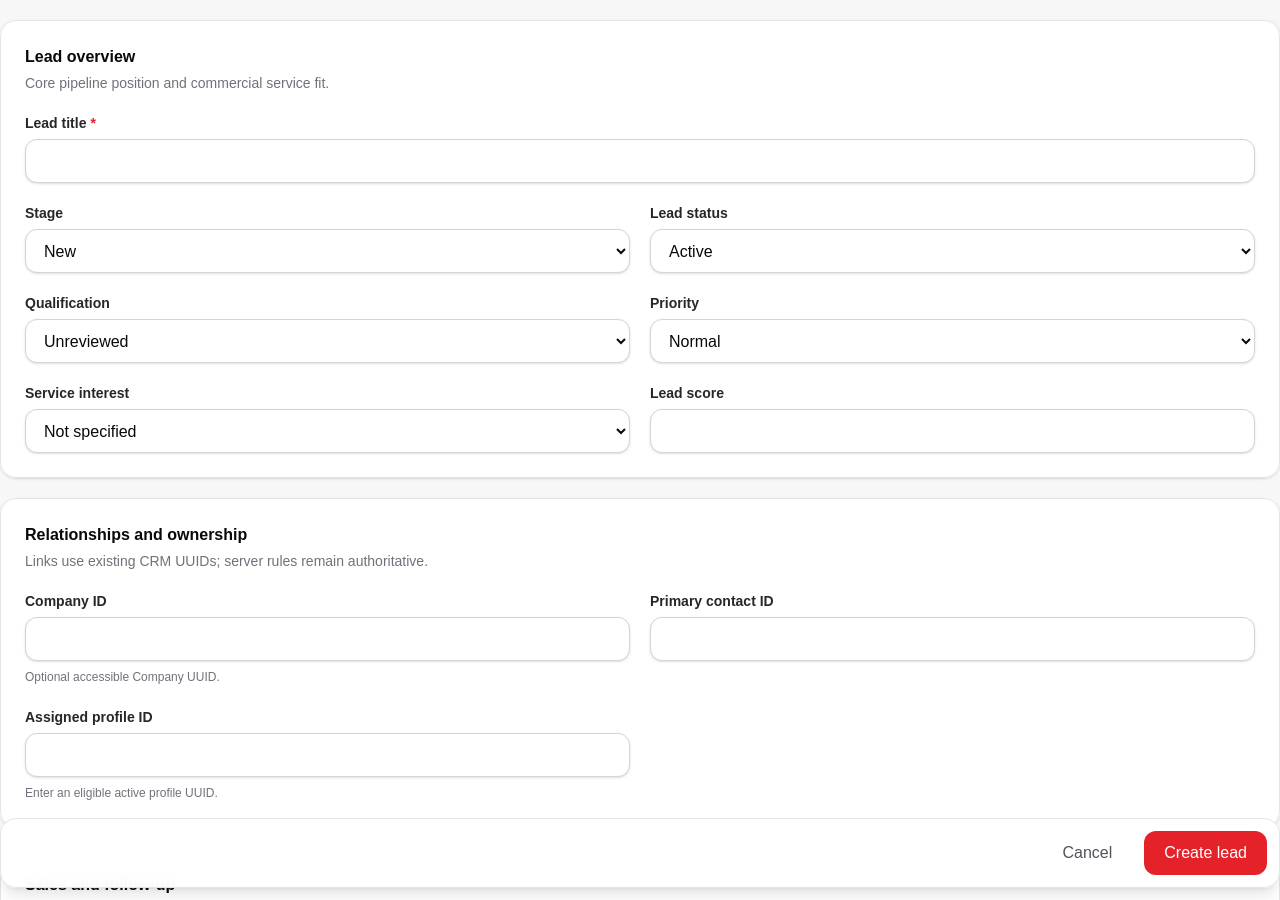
Test: Leads UI › presents field validation and focuses the invalid input
Click the button "Create lead" at (1206, 853), box top-left (1144, 831), bottom-right (1267, 875)
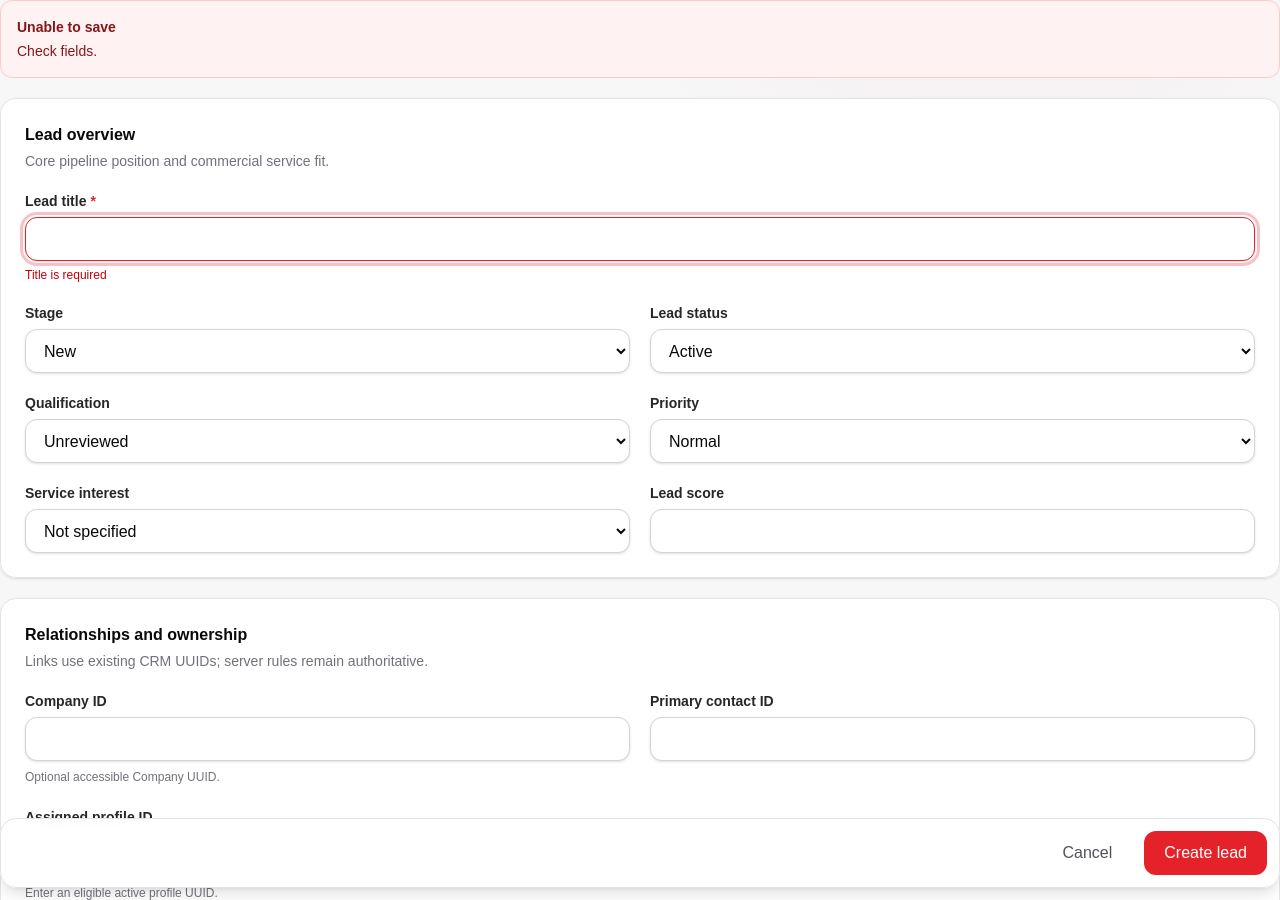
Expected: the text "Title is required" is shown, top-left (25, 268), bottom-right (107, 282)
